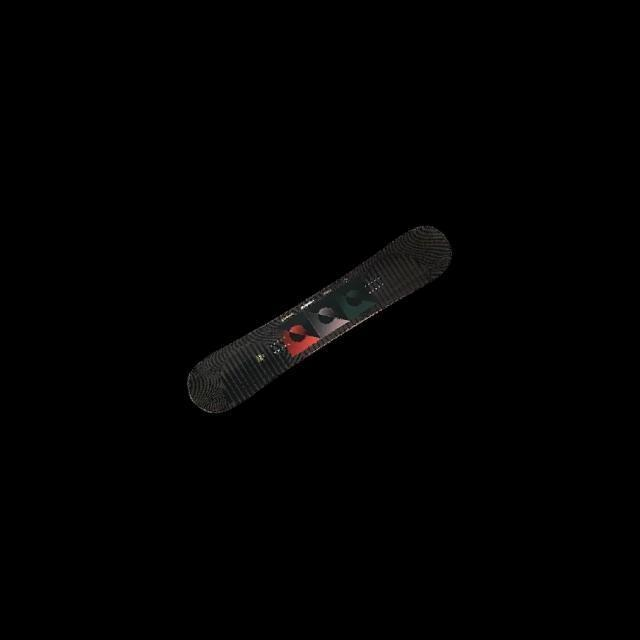Snowboard: (185, 223, 452, 415)
